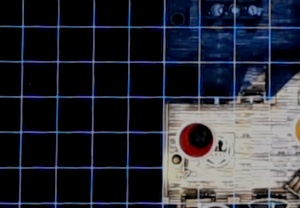red: (170, 116, 221, 163)
yellow: (287, 111, 299, 146)
